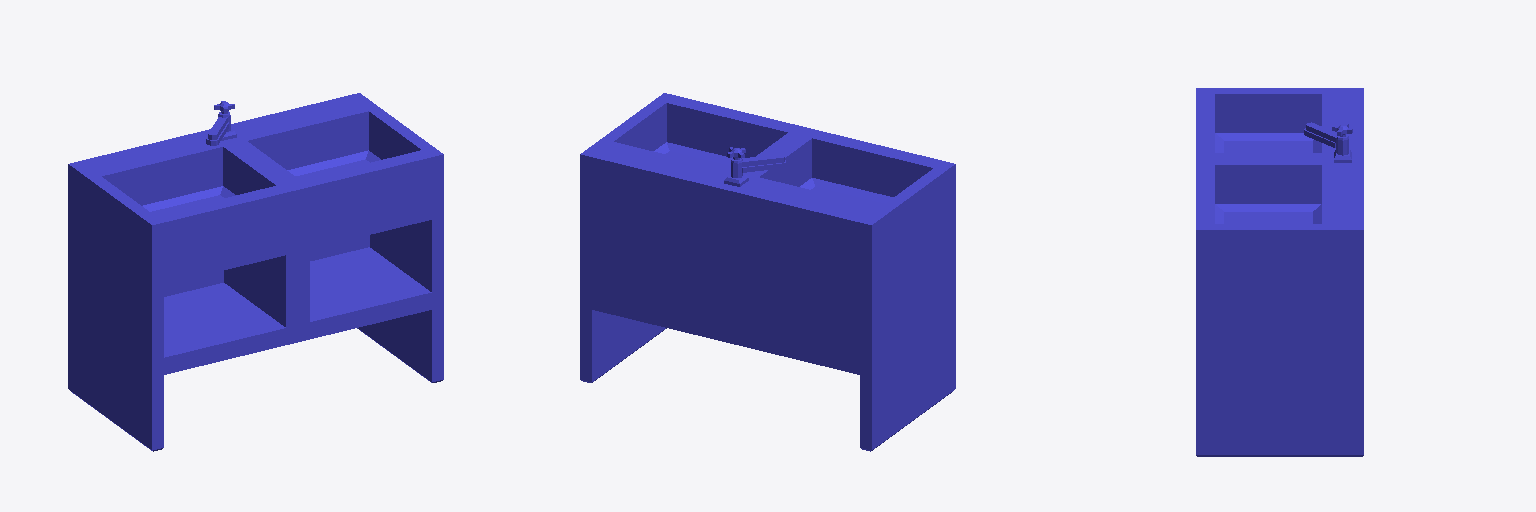
File: Chirapanpanpanpan.obj
3 views of the same model, side by side, from view 1: azimuth 30°, elevation 25°; view 2: azimuth 150°, elevation 25°; view 3: azimuth 270°, elevation 25° (orthographic).
Visible parts, largest first — view 1: Cylinder001; view 2: Cylinder001; view 3: Cylinder001.
Part boxes in pixels (left/top/right/bottom): Cylinder001: left=68, top=93, right=443, bottom=451; Cylinder001: left=580, top=93, right=955, bottom=451; Cylinder001: left=1196, top=88, right=1363, bottom=456.
Size of the model in its own units: 200 by 171 by 100.